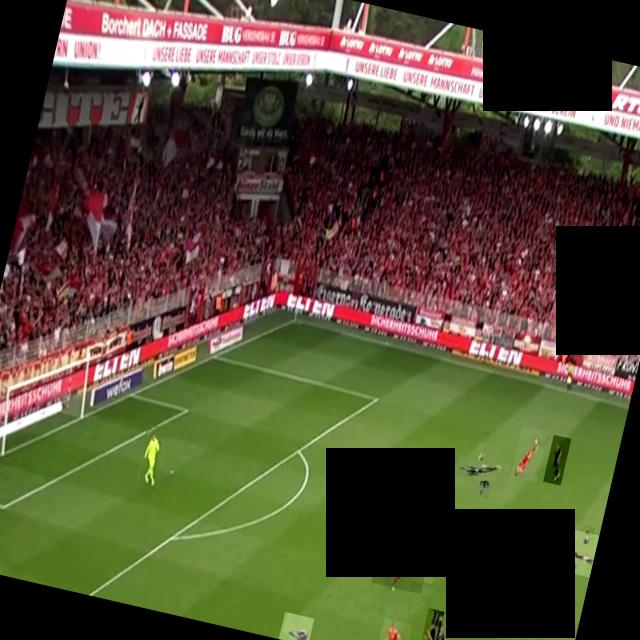goalkeeper: (133, 422, 175, 492)
referee: (414, 606, 444, 640)
soccer-player: (370, 530, 431, 592), (402, 519, 453, 570), (550, 525, 599, 576), (458, 444, 507, 494), (509, 424, 547, 482), (542, 433, 570, 484), (277, 610, 313, 640), (373, 617, 411, 640)
